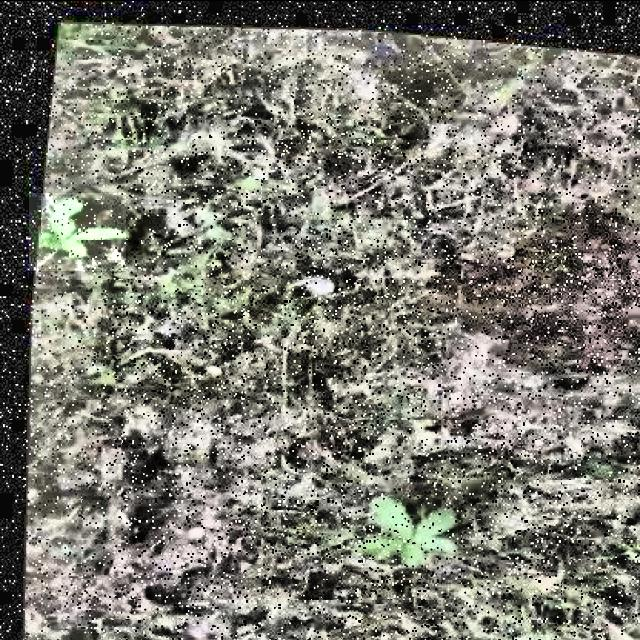Weeds: (347, 481, 458, 567), (29, 192, 126, 270)
